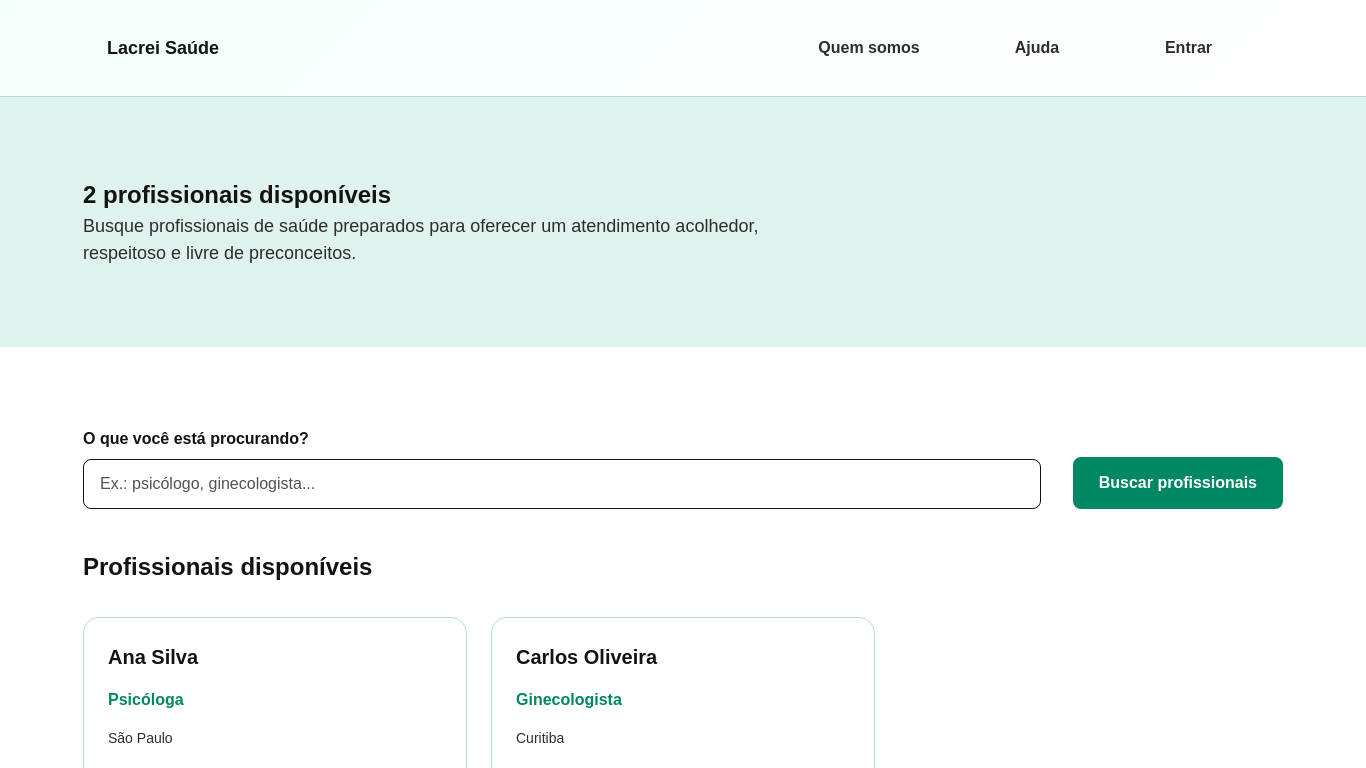
BuscarPage › exibe mensagem quando a busca não encontra resultados
Expected: the heading "Ana Silva" is shown, [108,646,198,668]
Type "dentista" into the search field at (562,484), box [83,459,1041,509]
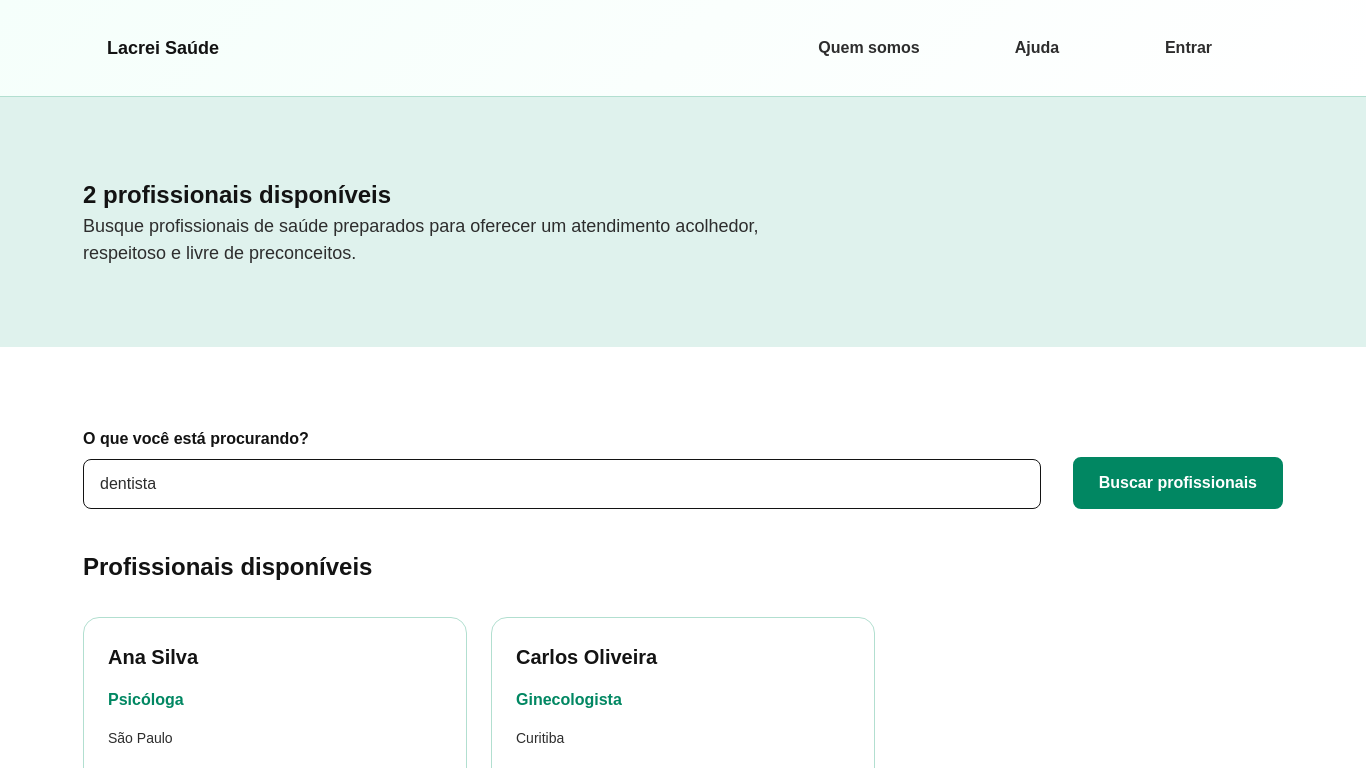
Click the button "Buscar profissionais" at (1178,483), box [1073,457,1283,509]
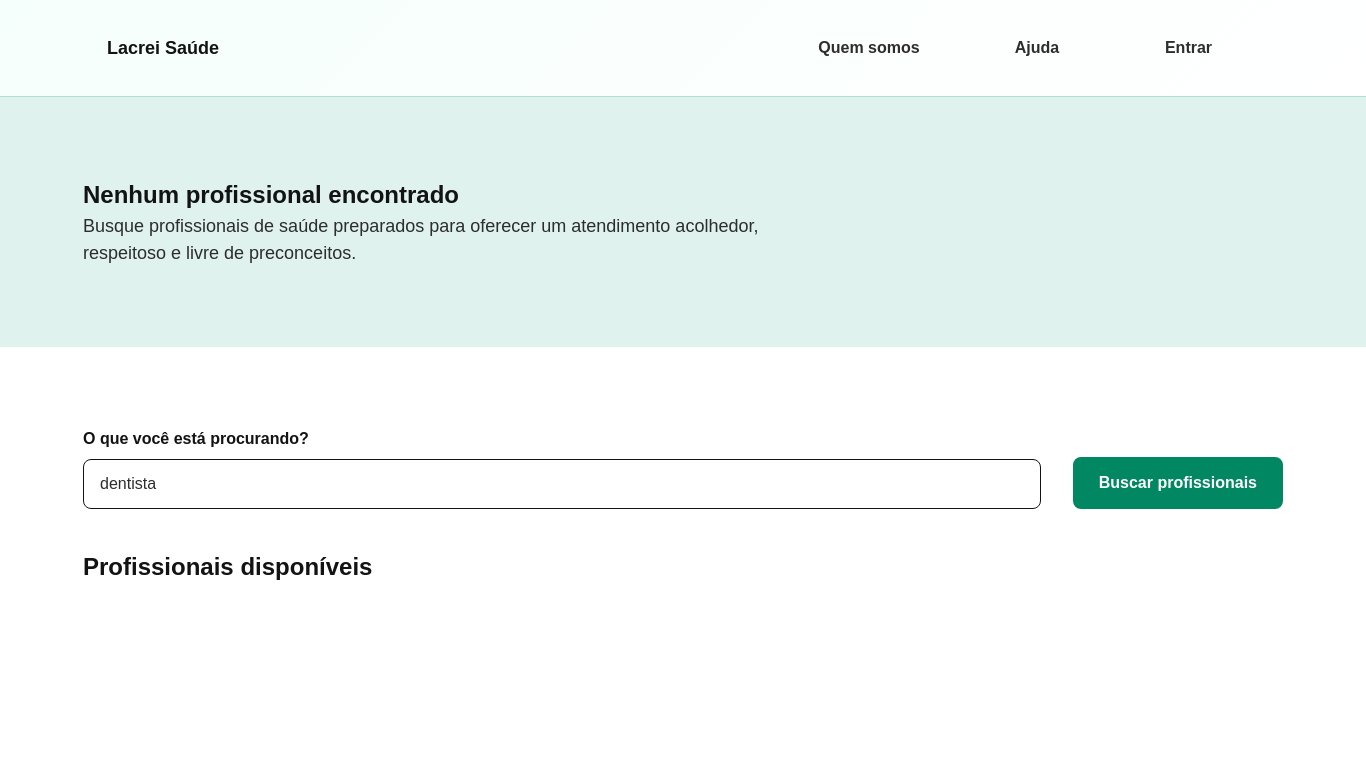
Result: the heading "Nenhum profissional encontrado" is shown at [83,181,459,208]
Result: the heading "Ana Silva" is gone
Result: the heading "Carlos Oliveira" is gone
